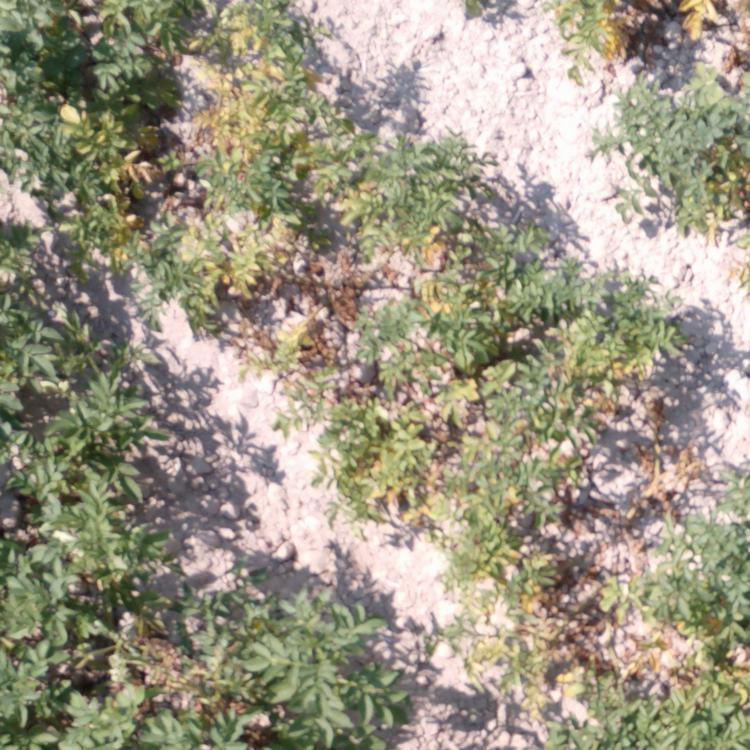healthy: (199, 583, 414, 749), (1, 252, 136, 475), (1, 590, 195, 744), (1, 479, 175, 588)
stressed: (340, 145, 568, 306), (1, 2, 143, 256), (318, 410, 612, 520), (145, 146, 337, 305), (138, 1, 345, 145), (614, 55, 750, 232), (424, 303, 642, 412), (620, 471, 750, 636), (436, 523, 622, 638), (457, 635, 645, 747), (214, 308, 418, 406), (639, 641, 750, 750), (542, 1, 750, 55), (453, 1, 536, 25)
